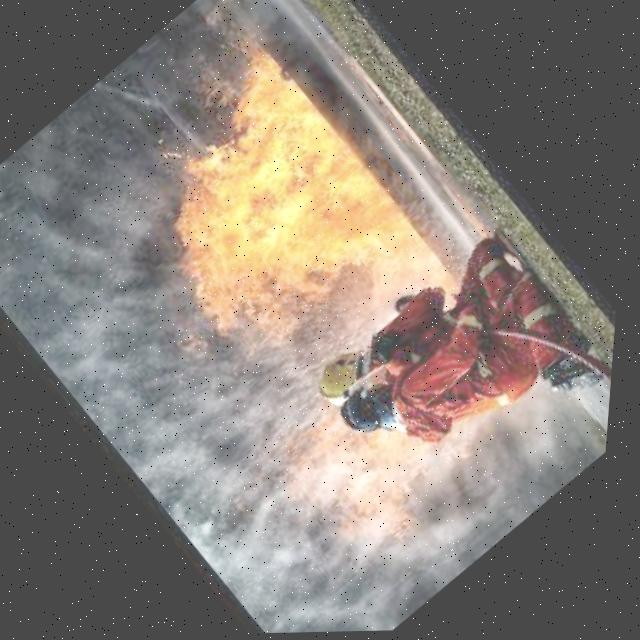Fire: (80, 37, 459, 410), (253, 391, 448, 582)
